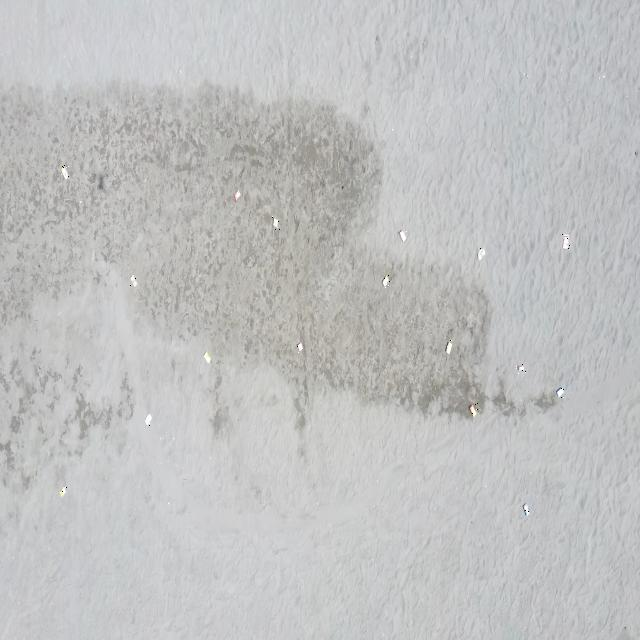Garbage: (60, 164, 68, 179), (382, 273, 390, 287), (397, 230, 406, 241), (203, 351, 211, 363), (562, 233, 568, 248), (468, 404, 476, 415), (477, 248, 484, 260), (272, 216, 279, 228), (446, 340, 452, 353), (144, 415, 151, 426), (129, 275, 136, 286), (57, 486, 65, 495), (556, 387, 564, 396), (523, 503, 529, 515), (233, 192, 240, 201), (296, 343, 303, 351), (517, 364, 524, 372)
